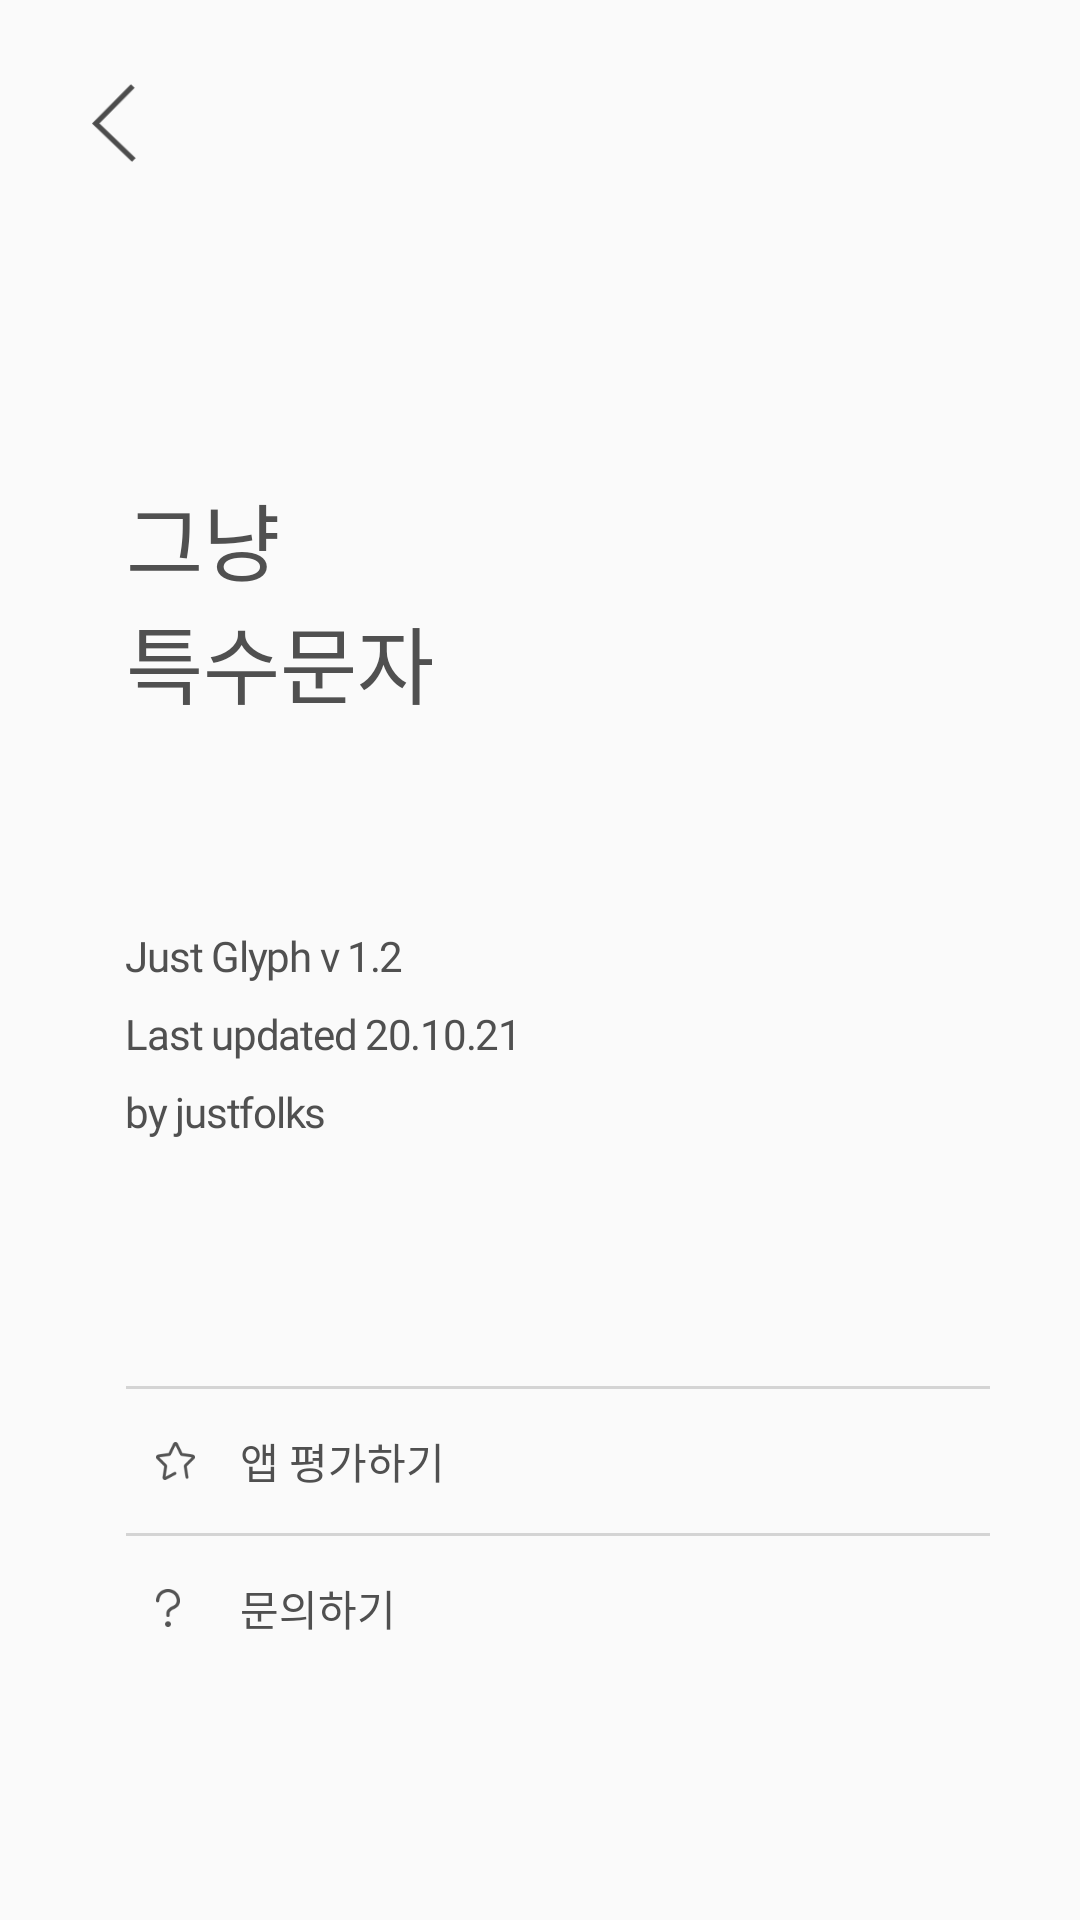

Icon click points for this 1080×1920 phone screenshot, format [x,y]:
back: [114,123]
